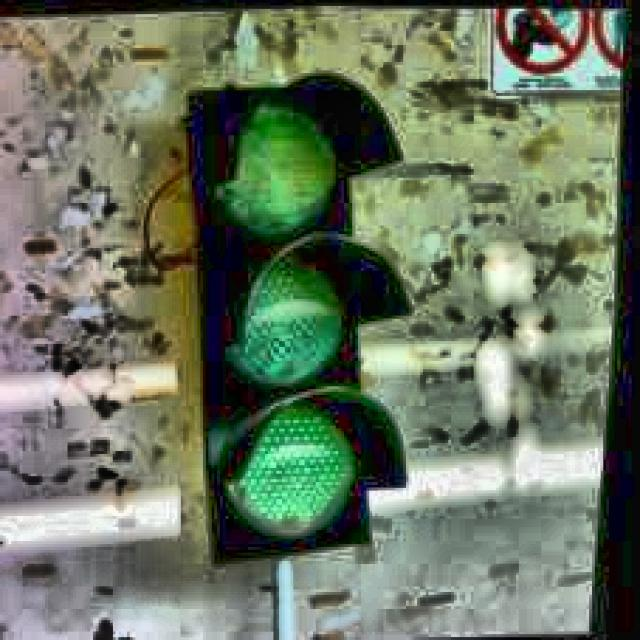green: (155, 71, 443, 561)
